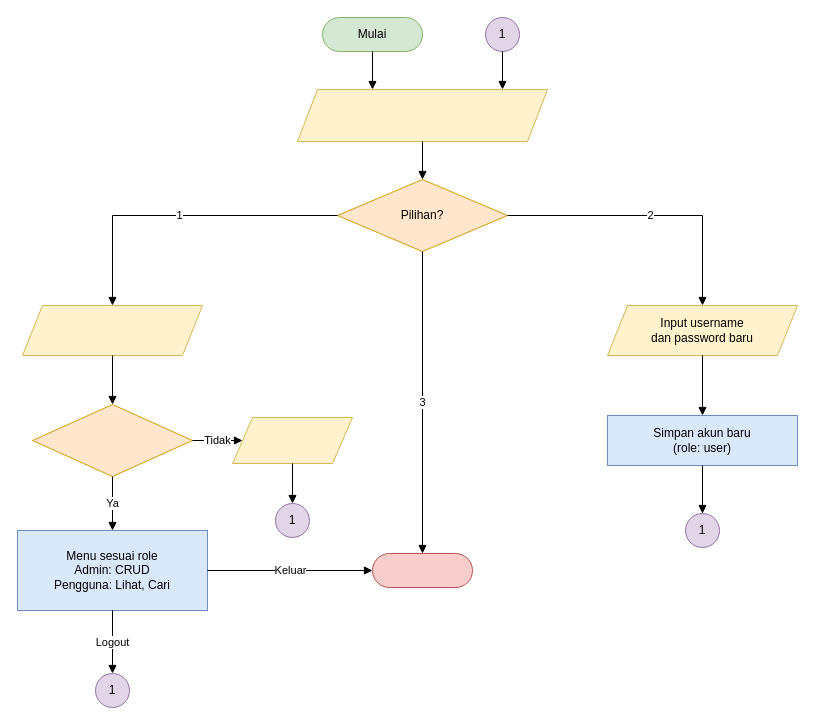
The diagram is 815 pixels wide and 725 high, and some of its shapes have lost their labels. Each missing label, with the centre of its shape:
"Akun cocok?" goes at point (112, 440).
"Input username dan password" goes at point (112, 330).
"Selesai" goes at point (422, 570).
"Tampilkan ERROR" goes at point (292, 440).
"Tampilkan menu awal dan input pilihan" goes at point (422, 115).
